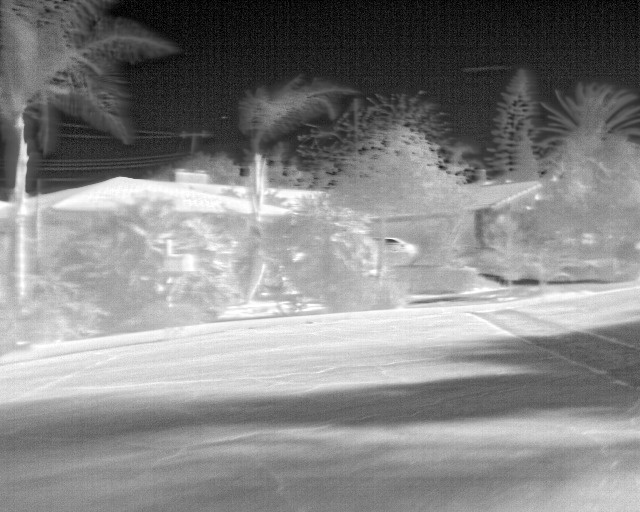car: (375, 227, 432, 262)
